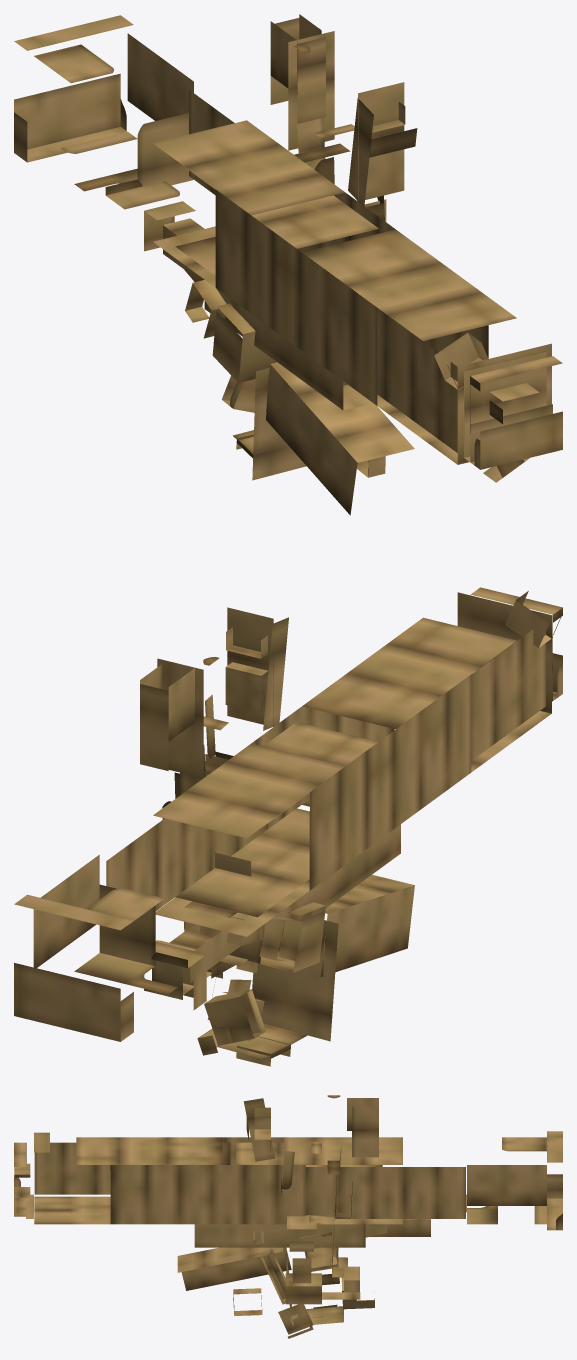
Rendered from fagot_turret.obj.
3 views of the same model, one above another, from view 1: azimuth 30°, elevation 25°; view 2: azimuth 150°, elevation 25°; view 3: azimuth 270°, elevation 25° (orthographic). The views are drawn at different scales.
Visible parts, largest first — view 1: pu_ustanovka; view 2: pu_ustanovka; view 3: pu_ustanovka.
Boxes of the visible parts, bbox=[...] form: pu_ustanovka: bbox=[14, 14, 562, 515]; pu_ustanovka: bbox=[14, 587, 562, 1066]; pu_ustanovka: bbox=[14, 1095, 562, 1338].
Bounding box in the file's own units: 0.4473 × 1.17 × 2.37.
